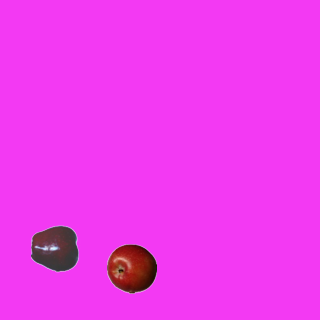Apple Braeburn: (106, 243, 156, 293)
Apple Red Delicious: (30, 223, 80, 273)
